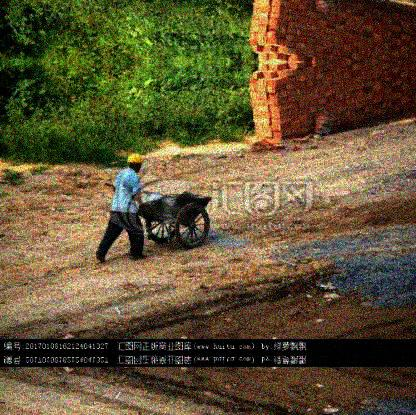helmet: (127, 153, 143, 174)
